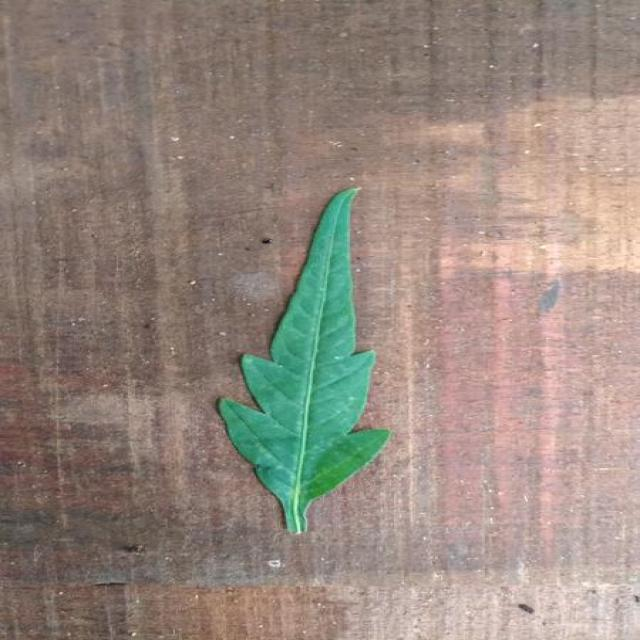balloon_Vine: (218, 189, 392, 533)
